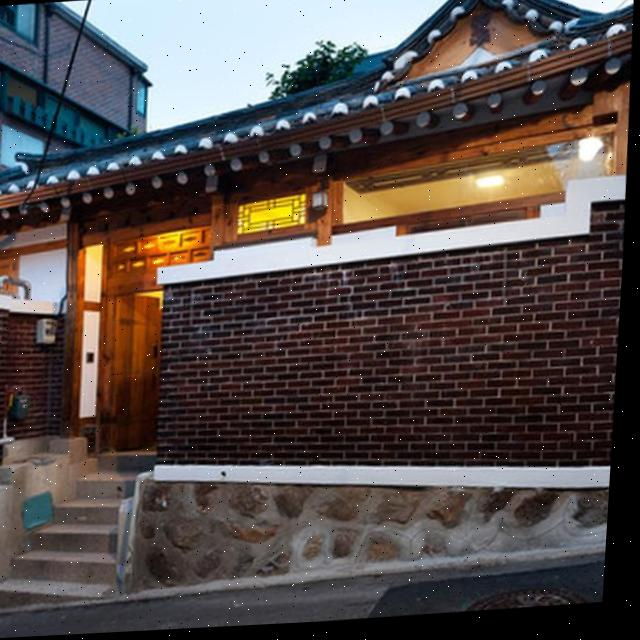building: (0, 0, 638, 524)
